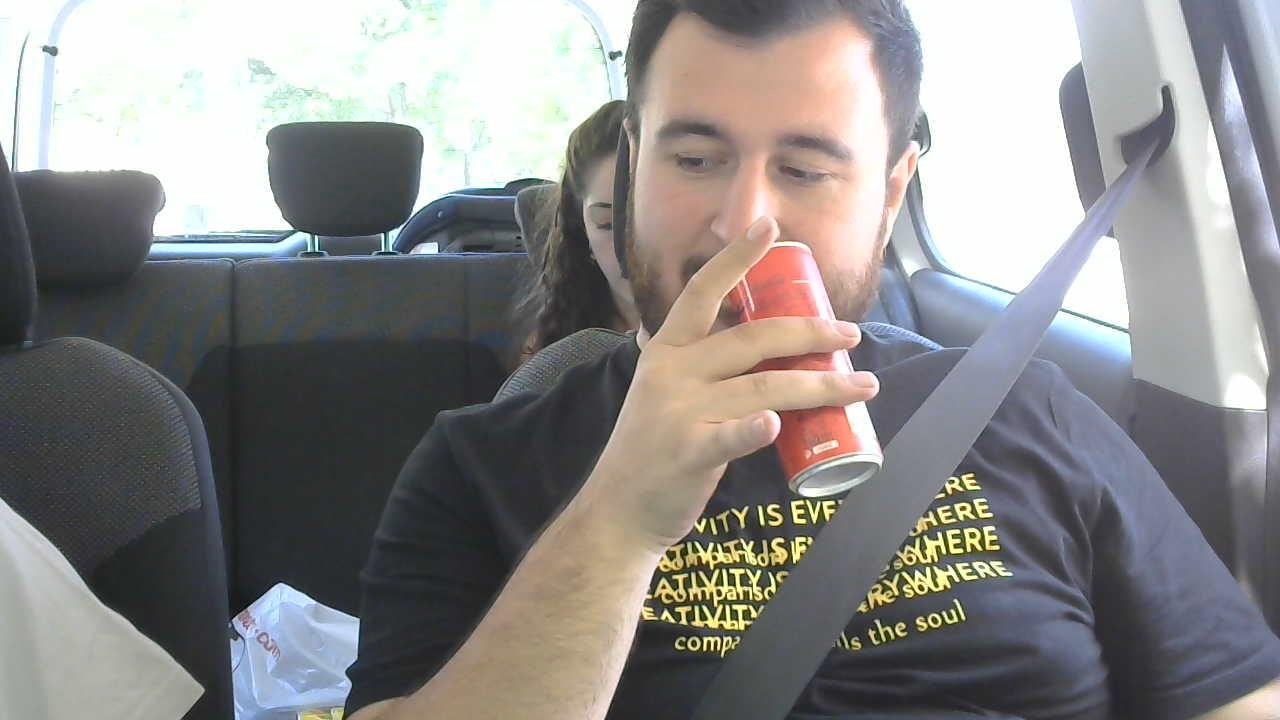Drinking: (620, 4, 919, 503)
